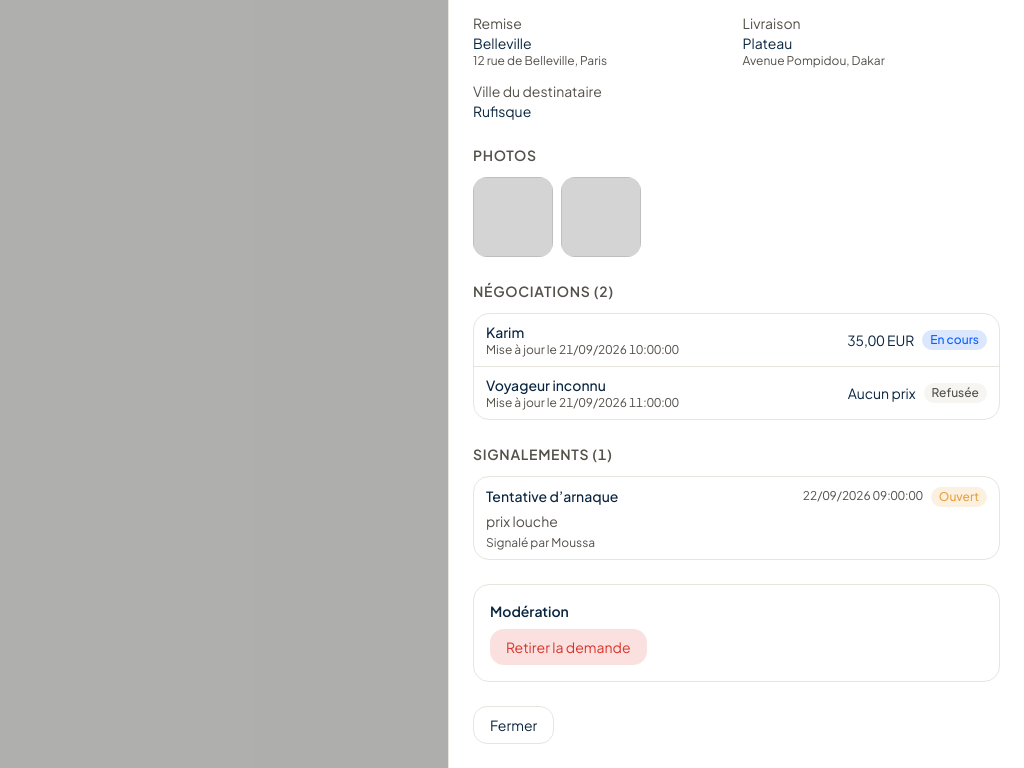
it: PackageRequestDetailPanel › Retirer › le dialogue dit que seul le motif public part à l’expéditeur et que les négociations ouvertes seront annulées
The image size is (1024, 768).
(page scrolled)
Click the button with test id "pr-remove" at coordinates (568, 647), box [490, 629, 646, 665]
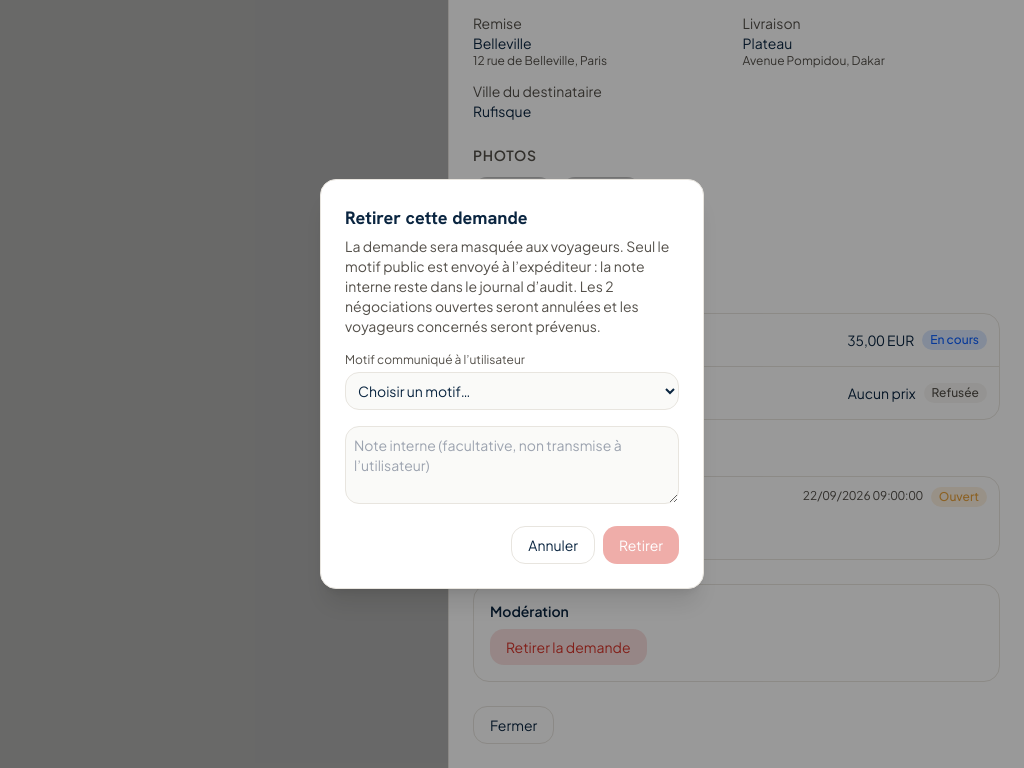
Check: the element with test id "overlay" shows "Seul le motif public est envoyé à l’expéditeur", box [345, 237, 669, 335]
Check: the element with test id "overlay" shows "Les 2 négociations ouvertes seront annulées", box [345, 237, 669, 335]
Check: the element with test id "overlay" shows "voyageurs concernés seront prévenus", box [345, 237, 669, 335]
